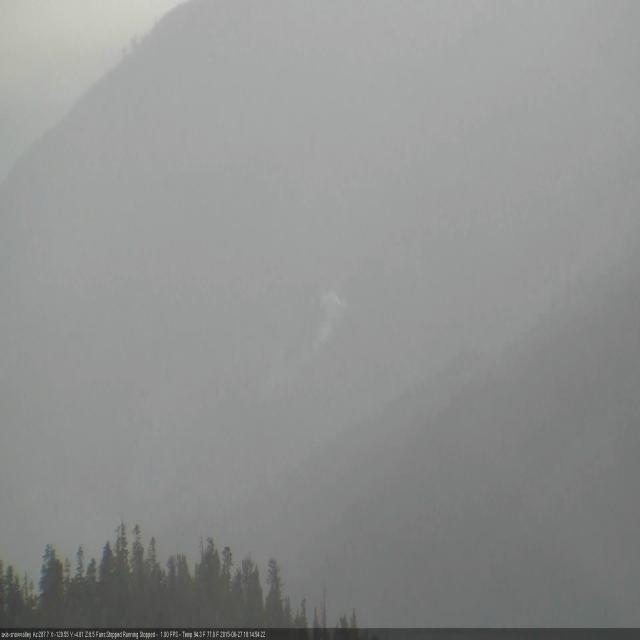smoke: (306, 289, 346, 362)
